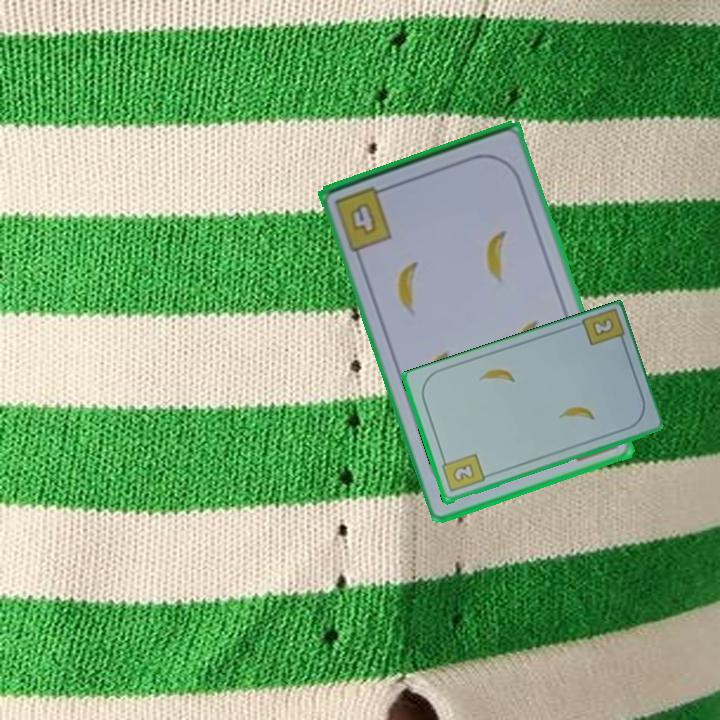2b: (438, 450, 487, 495), (588, 316, 615, 339)
4b: (331, 183, 396, 254)
